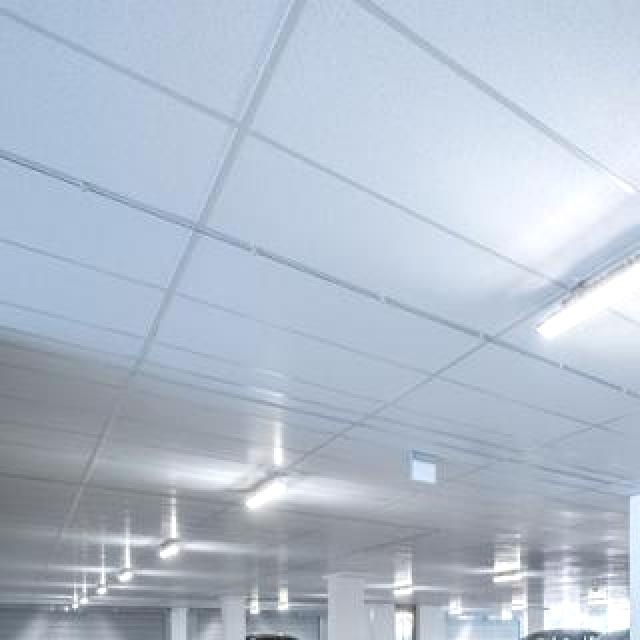fluorescent tube: (528, 204, 640, 358), (233, 476, 298, 520), (482, 562, 554, 600), (104, 551, 147, 596), (147, 531, 198, 564), (379, 581, 437, 603)
